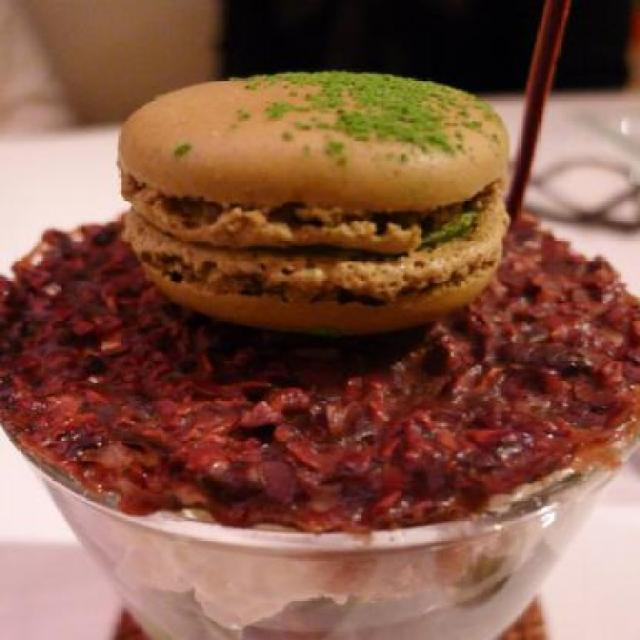Macaron: (112, 62, 522, 320)
